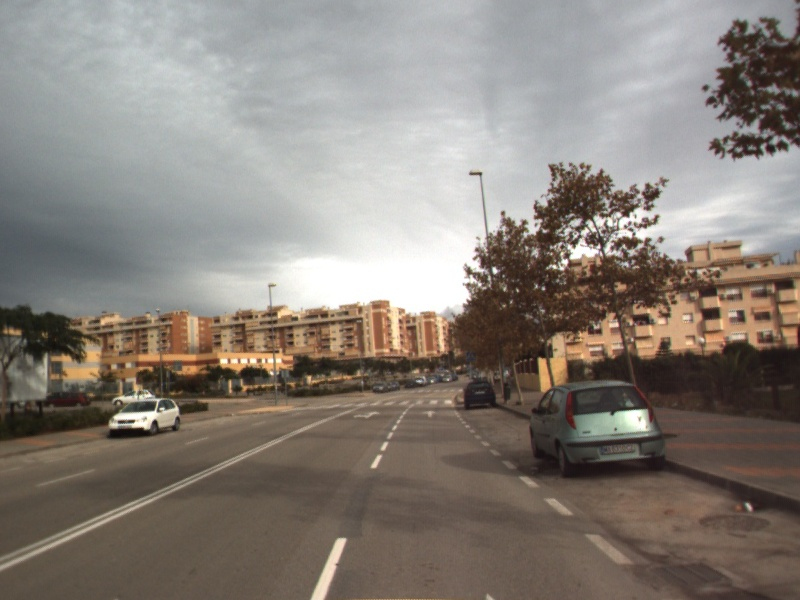STRAIGHT: (419, 408, 440, 420)
STRAIGHT_LEFT: (351, 408, 383, 421)
